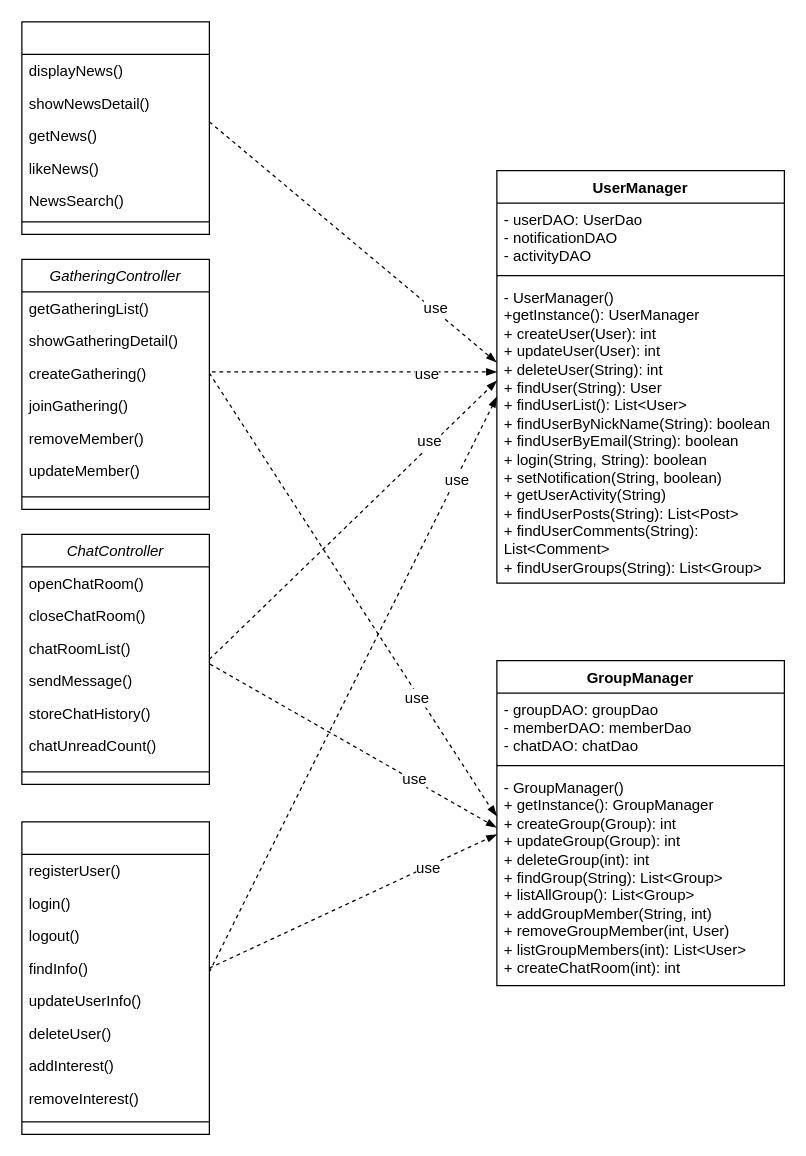
The diagram is 806 pixels wide and 1156 high, and some of its shapes have lost their labels. The box of each missing label's shape, as (x1, y1, x2, y2) in pixels:
NewsController: (21, 21, 209, 234)
UserController: (21, 821, 209, 1134)
